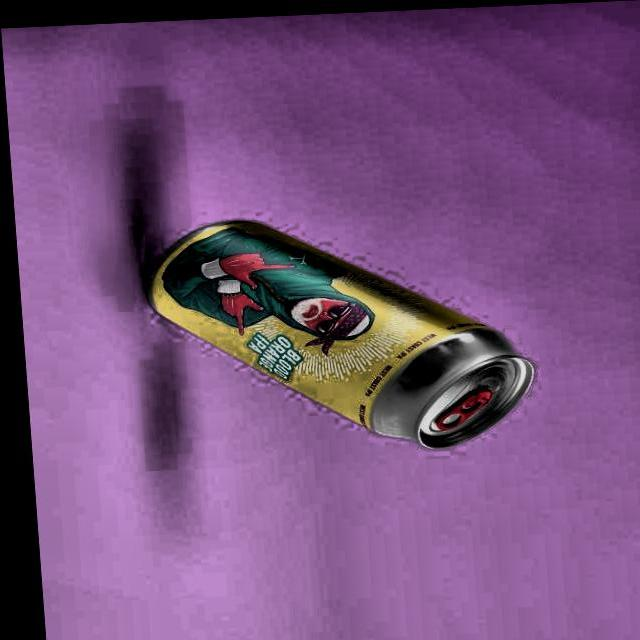Aluminum Can: (126, 202, 537, 464)
